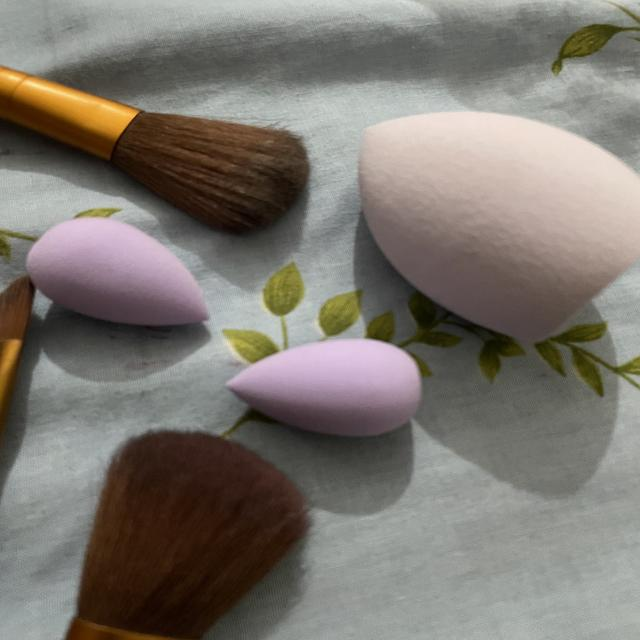beauty blender: (339, 101, 640, 352), (24, 214, 230, 358), (216, 328, 444, 452)
brush: (77, 415, 323, 640), (30, 54, 322, 220), (0, 268, 43, 424)
